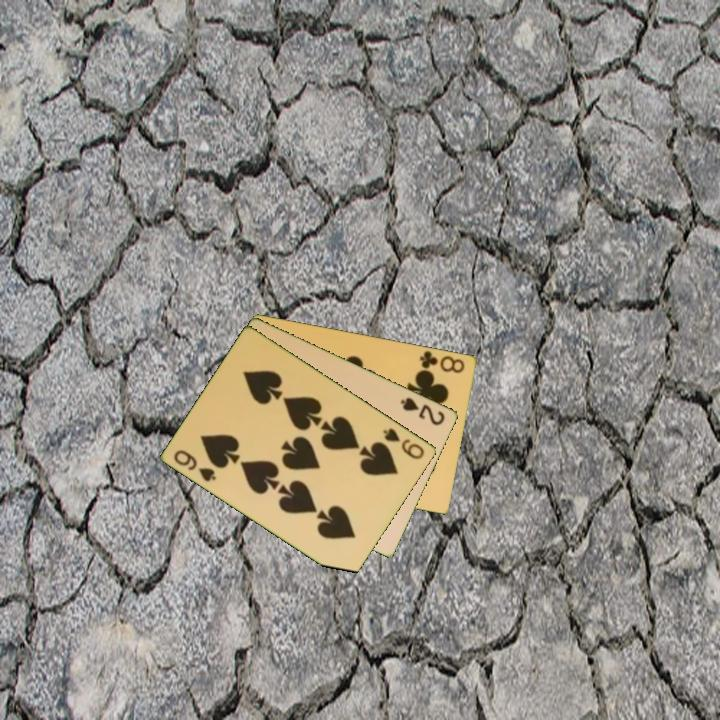2s: (397, 393, 448, 428)
8c: (416, 347, 468, 376)
9s: (170, 446, 219, 485), (380, 424, 428, 462)
